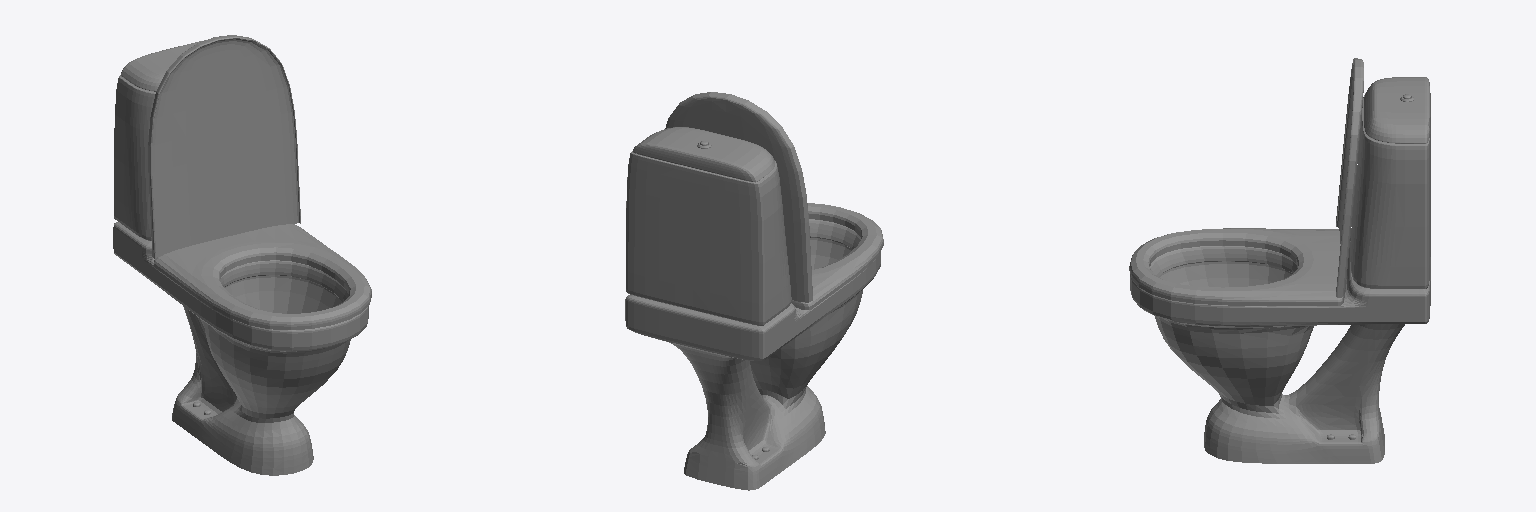
File: toilet.obj
3 views of the same model, side by side, from view 1: azimuth 30°, elevation 25°; view 2: azimuth 150°, elevation 25°; view 3: azimuth 270°, elevation 25° (orthographic).
Parts seen in each view (by area): view 1: Seat_LP_meshId0_name, Base_LP_meshId1_name; view 2: Base_LP_meshId1_name, Seat_LP_meshId0_name; view 3: Base_LP_meshId1_name, Seat_LP_meshId0_name.
Boxes of the visible parts, box(x1,y1,x2,y2) form: Seat_LP_meshId0_name: box(148, 35, 371, 414); Base_LP_meshId1_name: box(113, 40, 368, 475); Base_LP_meshId1_name: box(625, 127, 880, 490); Seat_LP_meshId0_name: box(665, 92, 883, 459); Base_LP_meshId1_name: box(1130, 77, 1430, 463); Seat_LP_meshId0_name: box(1129, 58, 1413, 439).
Size of the model in its own units: 0.0081 by 0.02 by 0.0144.